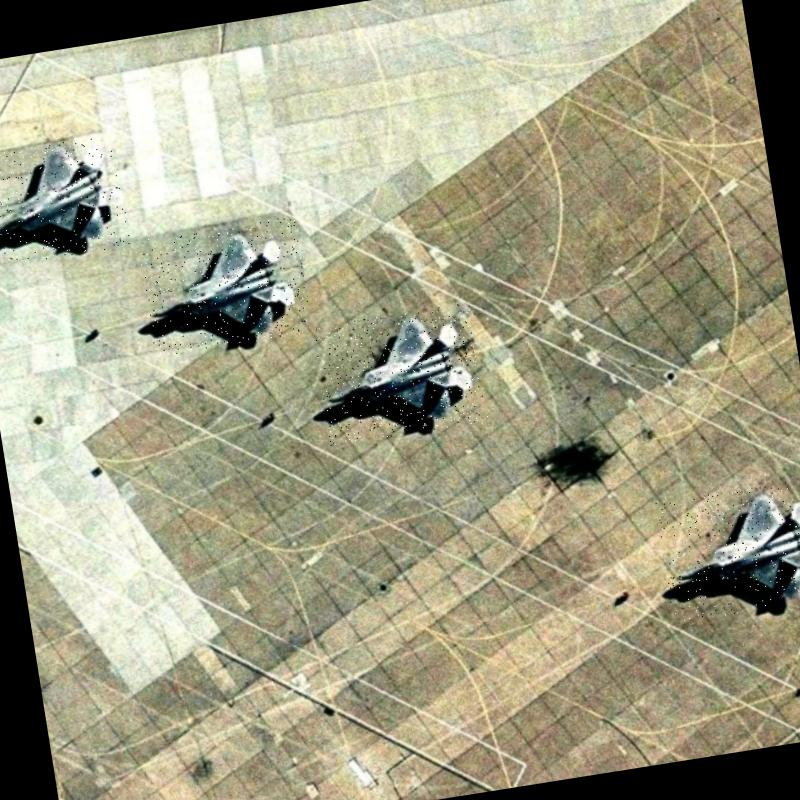A15: (312, 301, 488, 446), (137, 215, 312, 356), (654, 477, 800, 623), (0, 133, 130, 268)
